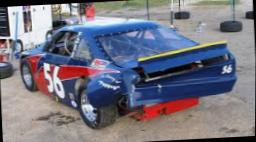Bumper: (126, 58, 236, 108)
Dickey: (115, 40, 231, 80)
Fender: (85, 59, 140, 107)
Windshield: (97, 27, 199, 64)
